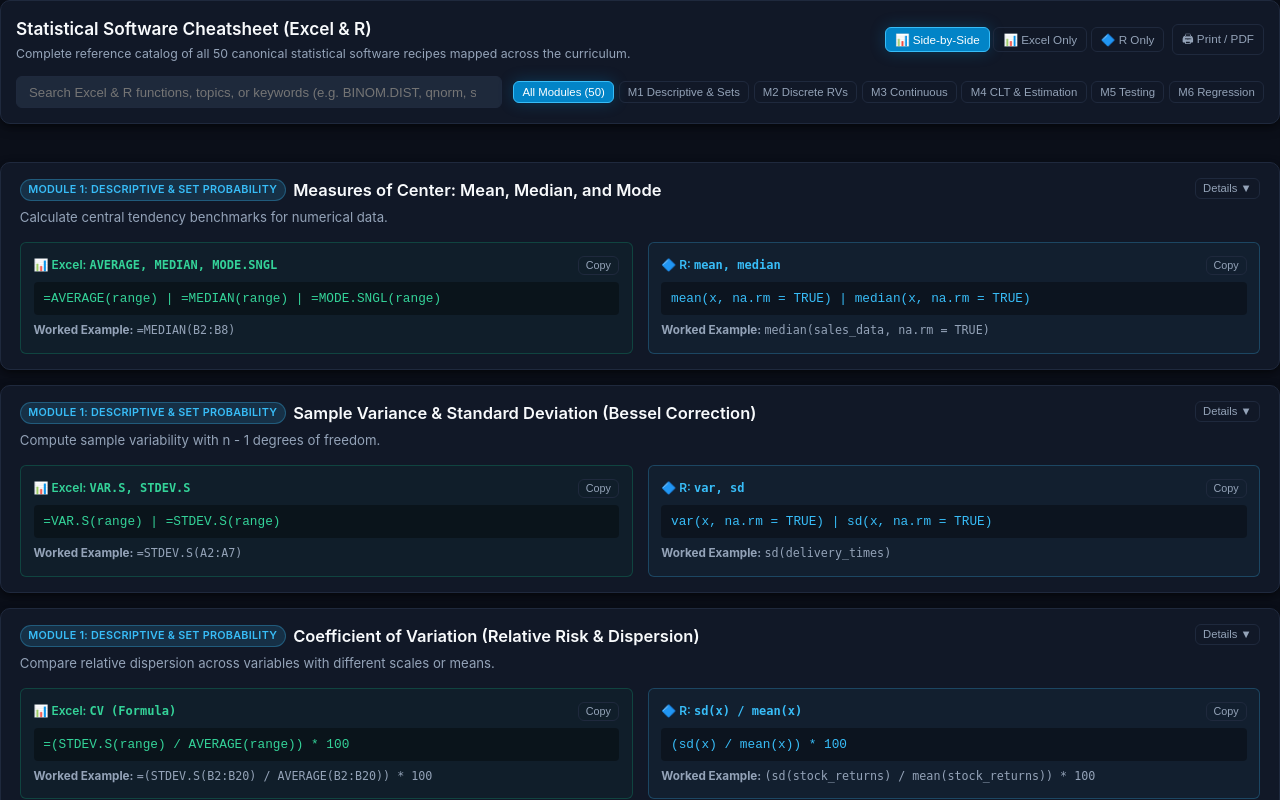
Test case: SoftwareCheatsheetCatalog › filters recipes by module pill
Click the button "M6 Regression".
click(1216, 92)  # box [1169, 81, 1264, 103]
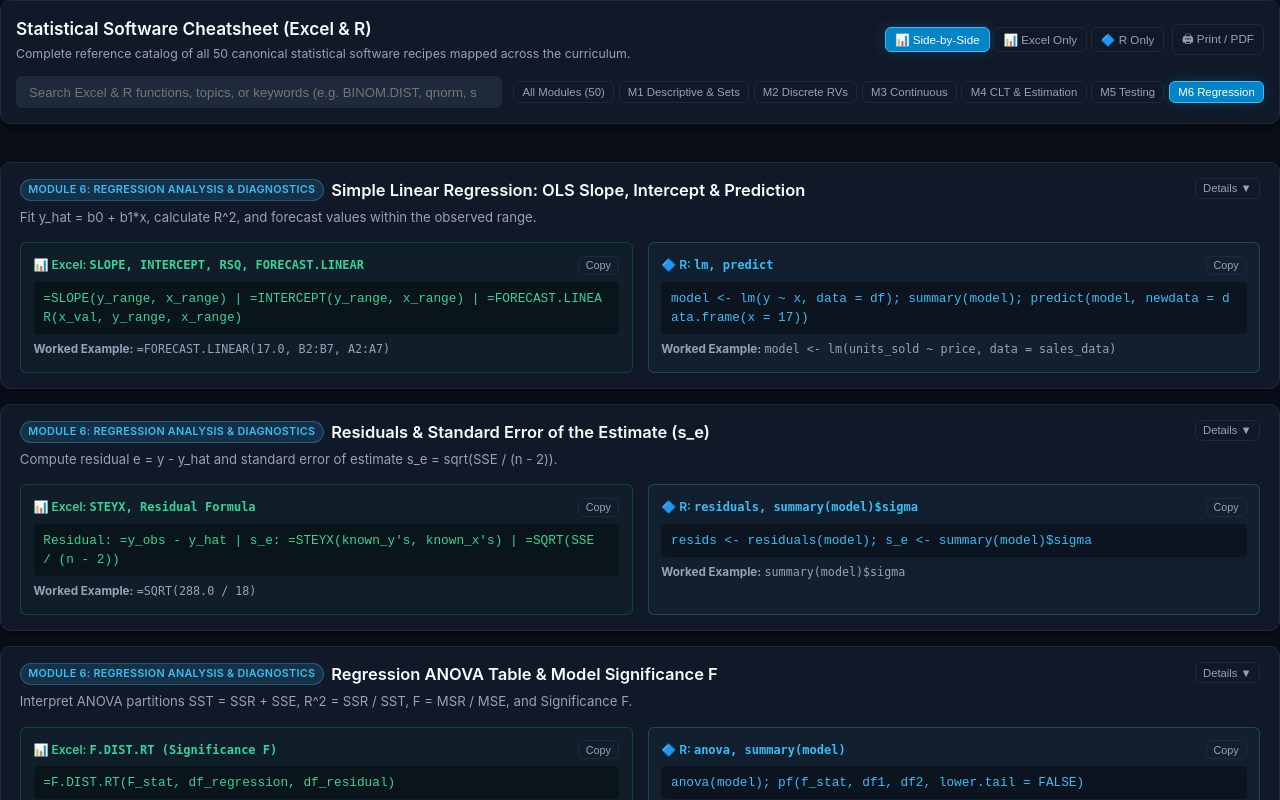
Expected: the heading "Simple Linear Regression: OLS Slope, Intercept & Prediction" is shown, [331, 178, 805, 202]
Now the heading "Measures of Center: Mean, Median, and Mode" is gone
